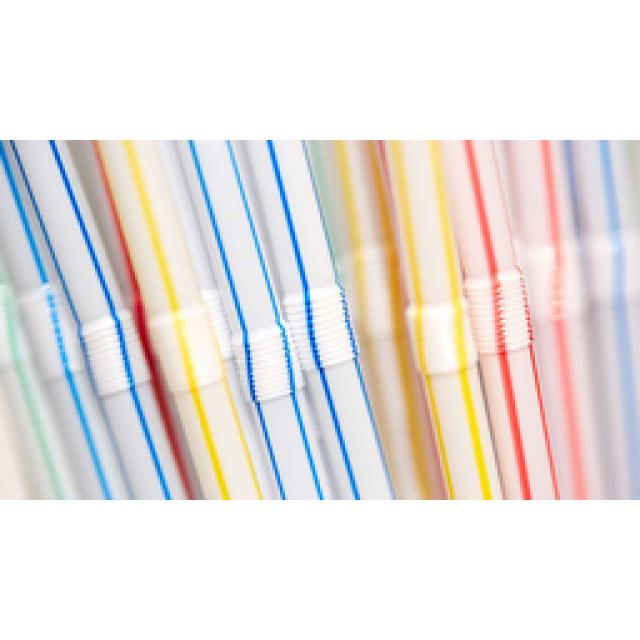plastic: (0, 138, 638, 500), (380, 140, 502, 498)
